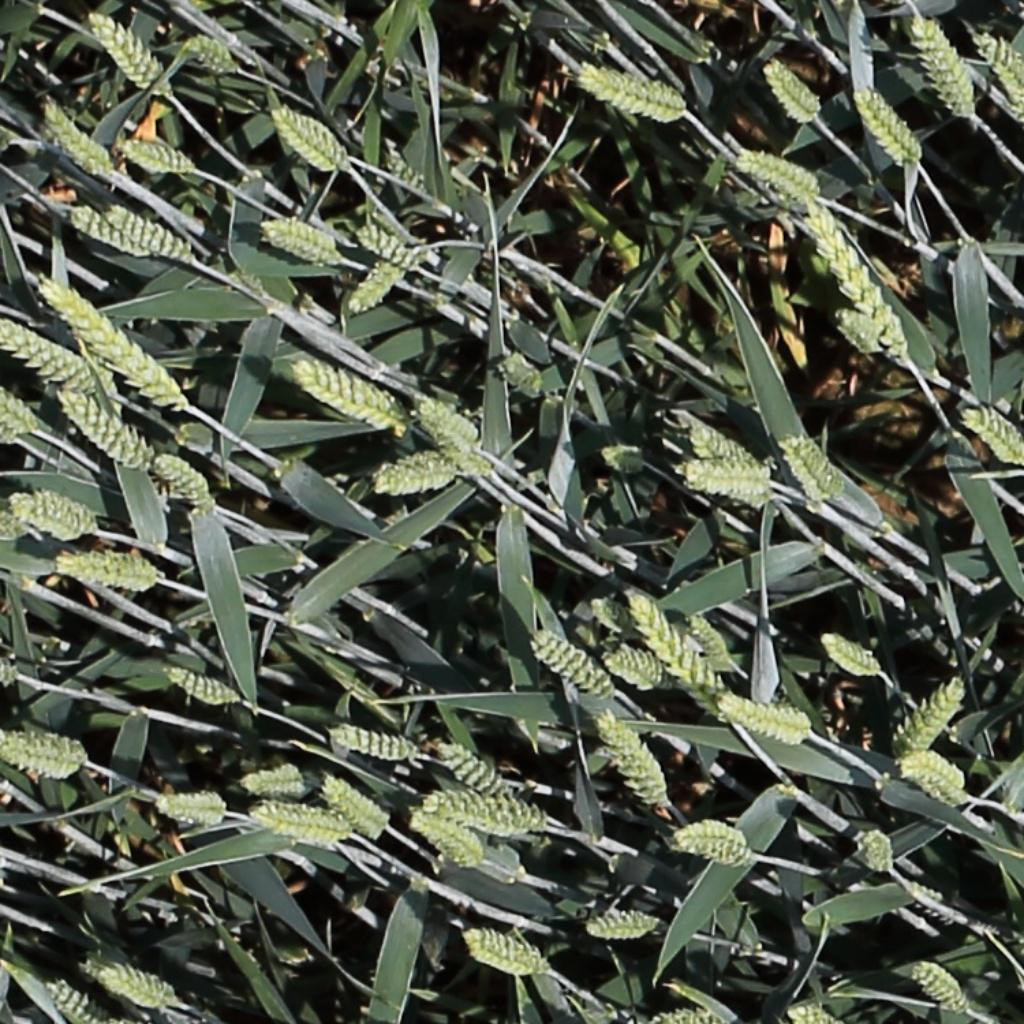0-0: (38, 274, 187, 408), (625, 589, 729, 699), (87, 8, 176, 102), (61, 390, 157, 475), (368, 439, 486, 502), (913, 10, 978, 124), (596, 709, 671, 806), (296, 360, 405, 425), (0, 315, 92, 387), (38, 94, 116, 177), (894, 675, 969, 761), (856, 83, 927, 166), (435, 741, 521, 808), (533, 633, 614, 700), (581, 68, 688, 117), (678, 465, 786, 513), (907, 875, 995, 932), (106, 202, 193, 259), (271, 103, 348, 167), (738, 150, 829, 204), (70, 204, 159, 259), (972, 27, 1024, 121), (783, 432, 845, 506), (322, 775, 390, 839), (152, 451, 218, 516), (763, 55, 824, 125), (674, 811, 753, 865), (9, 494, 101, 540), (465, 928, 550, 974), (430, 798, 544, 832), (241, 799, 336, 839), (55, 550, 157, 587), (719, 697, 813, 737), (412, 815, 484, 865), (330, 720, 420, 759), (962, 406, 1022, 464), (689, 417, 757, 468), (262, 219, 341, 262), (91, 966, 174, 1006), (346, 259, 406, 314), (912, 959, 972, 1013), (163, 667, 244, 707), (0, 733, 83, 772), (417, 397, 483, 446), (356, 223, 427, 268), (43, 977, 110, 1022), (685, 607, 735, 664), (823, 633, 886, 678), (154, 788, 224, 828), (828, 305, 884, 355), (117, 137, 196, 172), (380, 140, 432, 193), (901, 760, 968, 801), (587, 901, 667, 935), (606, 653, 674, 689), (0, 364, 36, 428), (241, 762, 309, 791), (185, 36, 237, 73), (652, 1000, 732, 1024), (499, 354, 546, 394), (862, 827, 898, 879), (0, 504, 27, 549), (602, 446, 647, 471), (789, 1006, 835, 1024), (0, 643, 20, 683)
